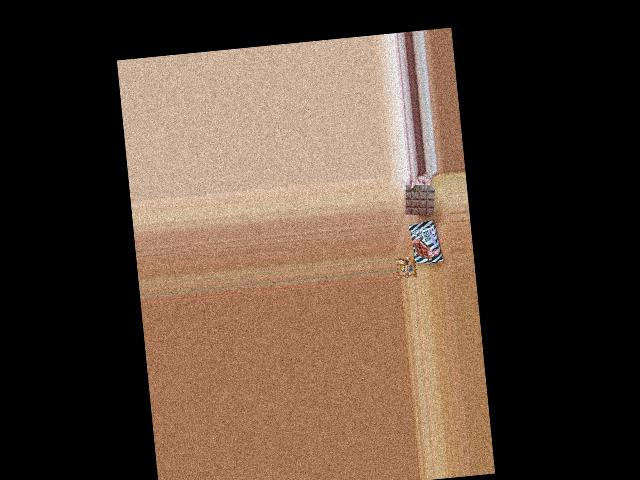chocolate: (409, 218, 442, 266)
